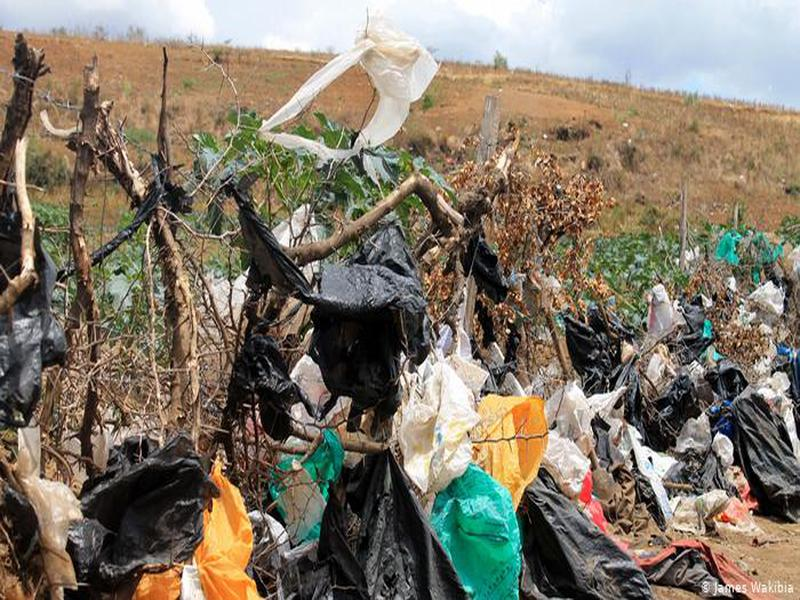plastic: (257, 7, 457, 166), (310, 217, 433, 412), (72, 426, 224, 582), (313, 443, 447, 600), (521, 468, 667, 600), (10, 420, 89, 600), (430, 466, 535, 600), (393, 356, 483, 492), (227, 300, 309, 446), (715, 384, 800, 518), (532, 377, 630, 478), (563, 297, 638, 394), (670, 299, 720, 364)
